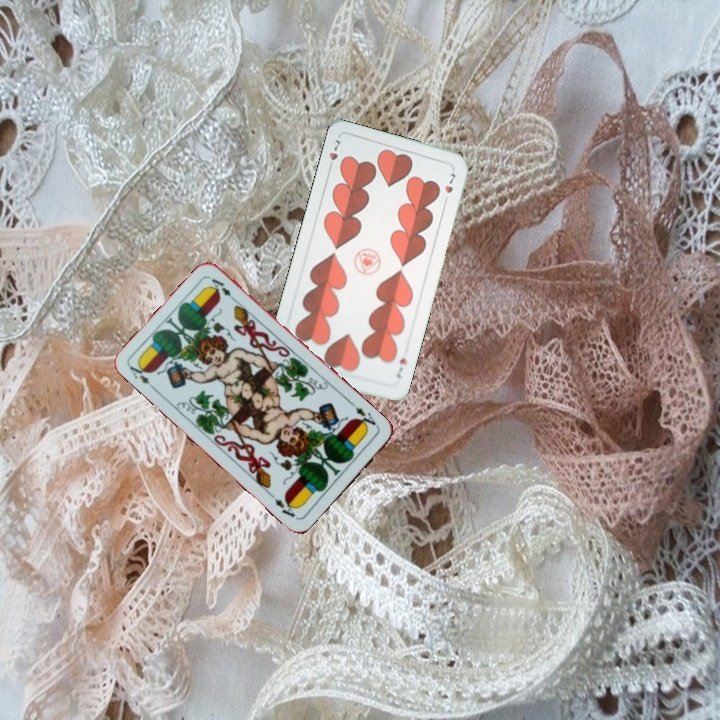EA: (125, 358, 159, 393), (351, 403, 381, 432)
H7: (324, 135, 343, 174), (392, 354, 410, 381)
